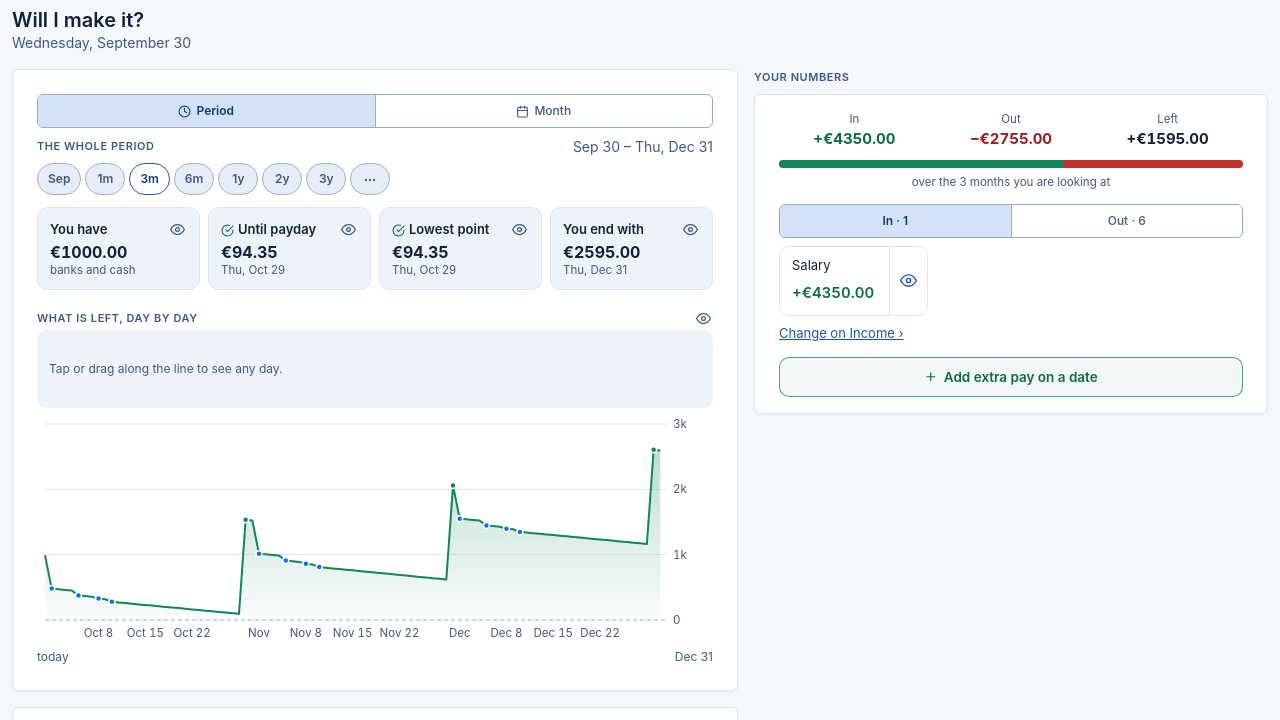
Test: the pay-day sheet › gives the Overview's answer: 94,35 left on the eve of pay, ≈3,14 a day
Click the button named "Until payday: " at [348, 230], box [332, 214, 364, 246]
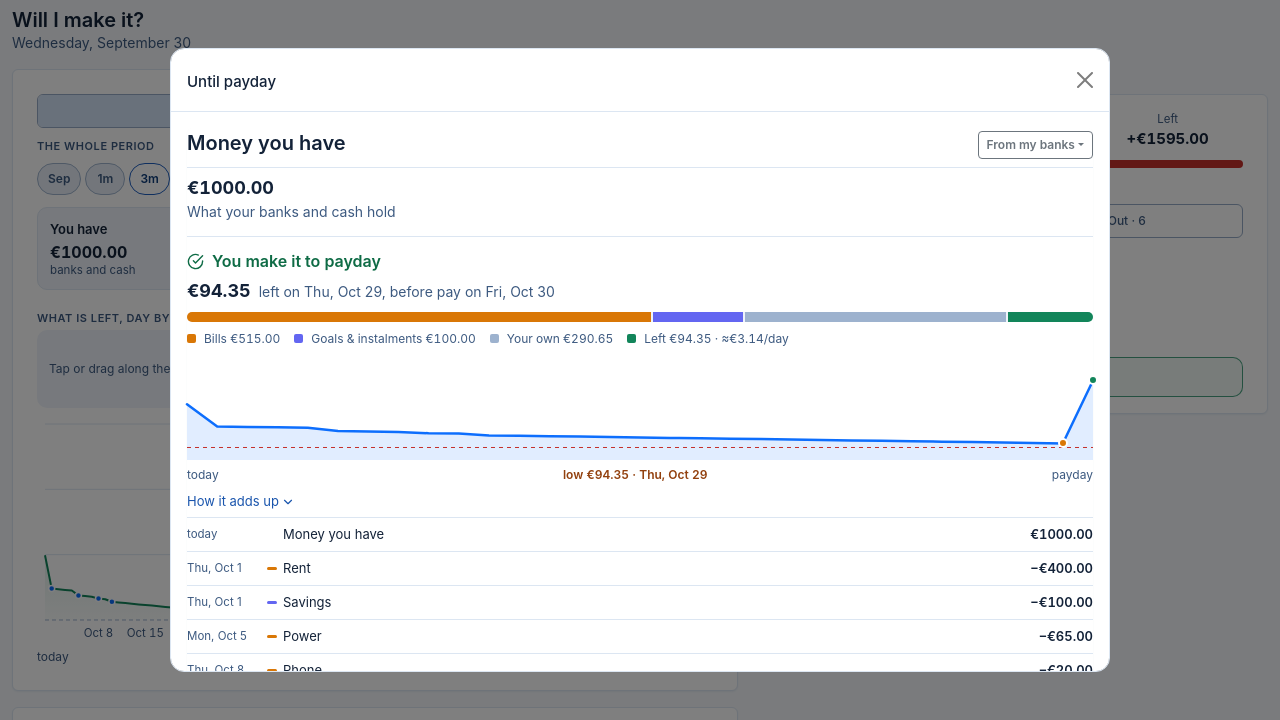
Expected: the text "€94.35" below "Lowest point" is shown, [221, 242, 278, 262]
Result: the text "You make it to payday" is shown at [187, 249, 381, 273]
Result: the list item "Left €94.35 · ≈€3.14/day" is shown at [627, 330, 789, 348]
